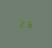six: (25, 19, 30, 28)
two: (19, 19, 24, 27)
